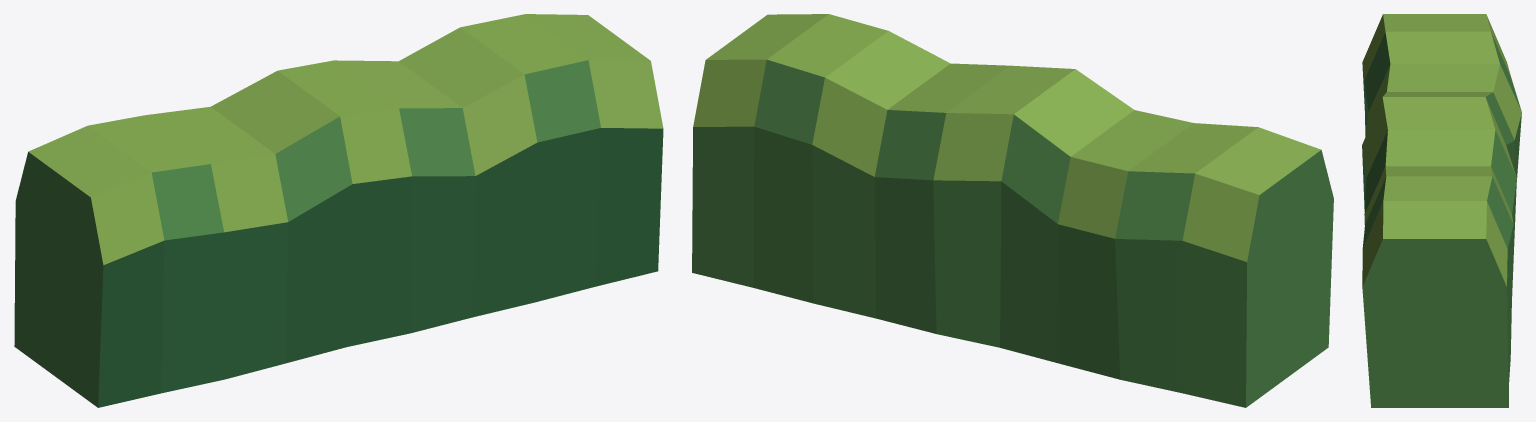
The model's file is hedge_segment.glb.
The picture shows the model from 3 angles, left to right: view 1: azimuth 30°, elevation 25°; view 2: azimuth 150°, elevation 25°; view 3: azimuth 270°, elevation 25°; orthographic projection. The views are drawn at different scales.
Visible parts, largest first — view 1: Body; view 2: Body; view 3: Body.
Boxes of the visible parts, x1=… form: Body: x1=14, y1=14, x2=663, y2=407; Body: x1=692, y1=14, x2=1333, y2=407; Body: x1=1362, y1=14, x2=1521, y2=407.
Size of the model in its own units: 3 by 1.16 by 0.9011.
